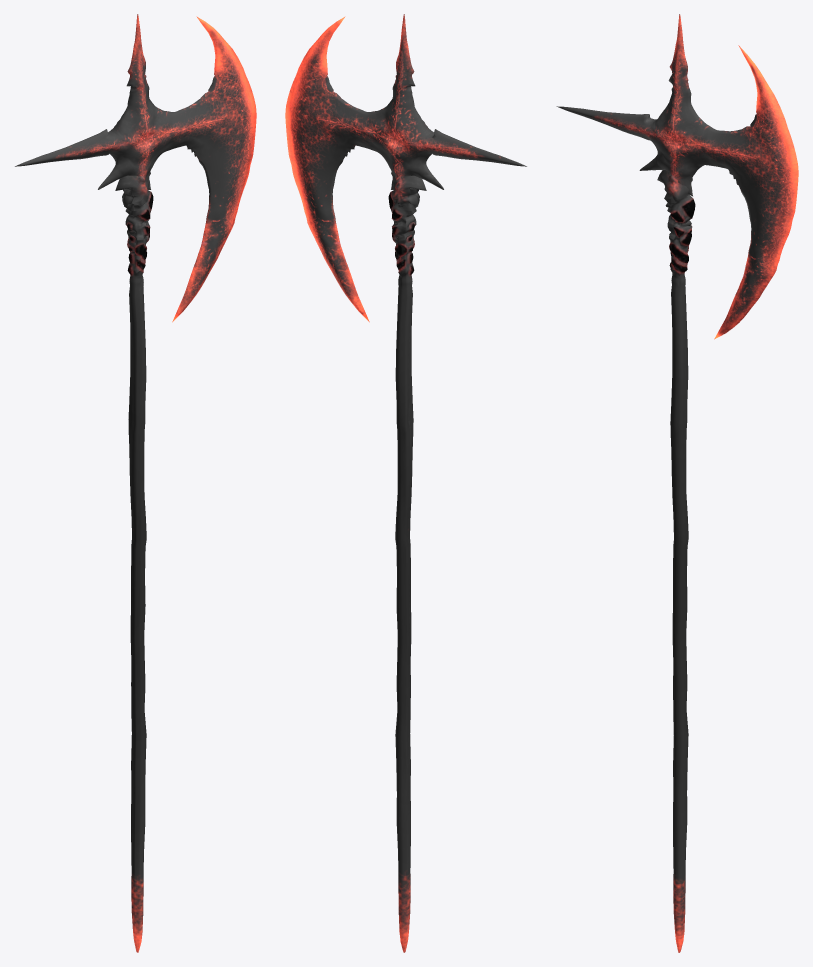
Rendered from alebarda.gltf.
3 views of the same model, side by side, from view 1: azimuth 30°, elevation 25°; view 2: azimuth 150°, elevation 25°; view 3: azimuth 330°, elevation 25° (orthographic).
Visible parts, largest first — view 1: РУКОЯТКА; view 2: РУКОЯТКА; view 3: РУКОЯТКА.
Part boxes in pixels (x1,y1,x2,y2): РУКОЯТКА: (15,14,256,952); РУКОЯТКА: (285,14,526,952); РУКОЯТКА: (556,14,798,952).
Size of the model in its own units: 5.34 by 19.74 by 0.6331.
Materials: 1 (1 with a texture image).
